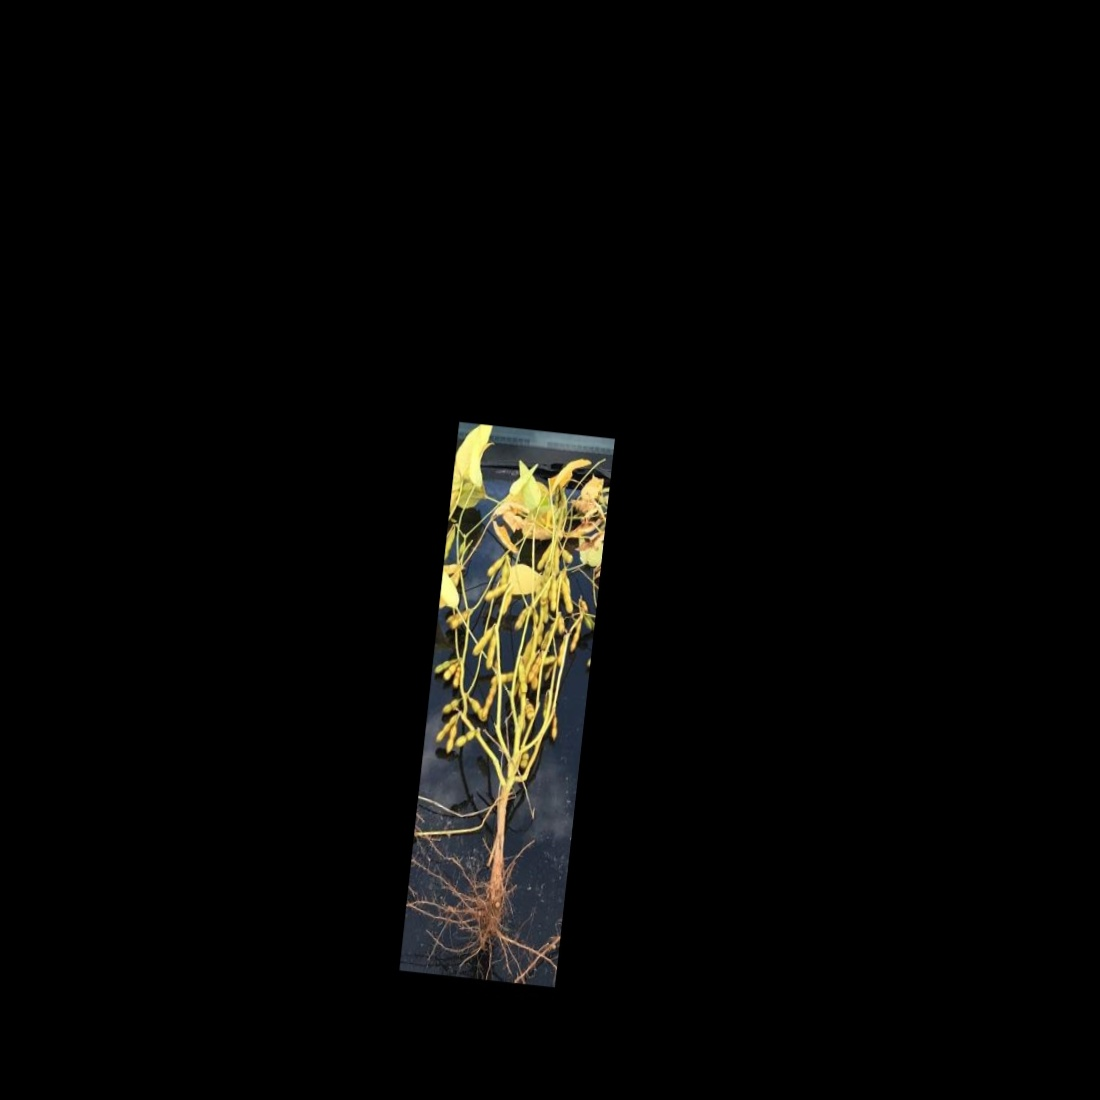pod: (479, 679, 500, 722), (557, 583, 577, 618), (483, 632, 500, 672), (488, 666, 517, 688), (454, 727, 480, 750), (444, 721, 460, 754), (485, 553, 506, 578), (498, 587, 514, 620), (512, 606, 530, 633), (548, 711, 561, 745), (440, 696, 460, 716), (452, 663, 464, 690), (559, 547, 575, 566)
soy: (409, 434, 610, 962)
